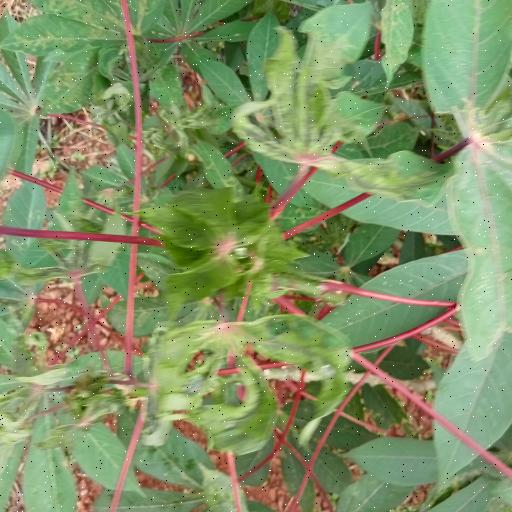Cassava_Mosaic: (245, 28, 437, 197), (152, 318, 338, 446), (148, 194, 310, 304)
